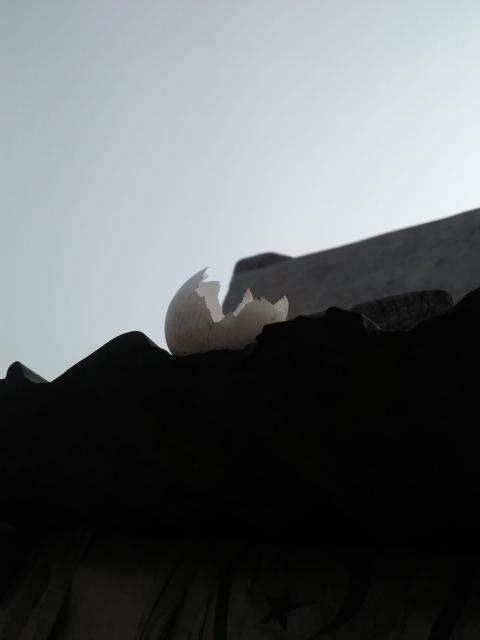Roto: (163, 266, 289, 357)
